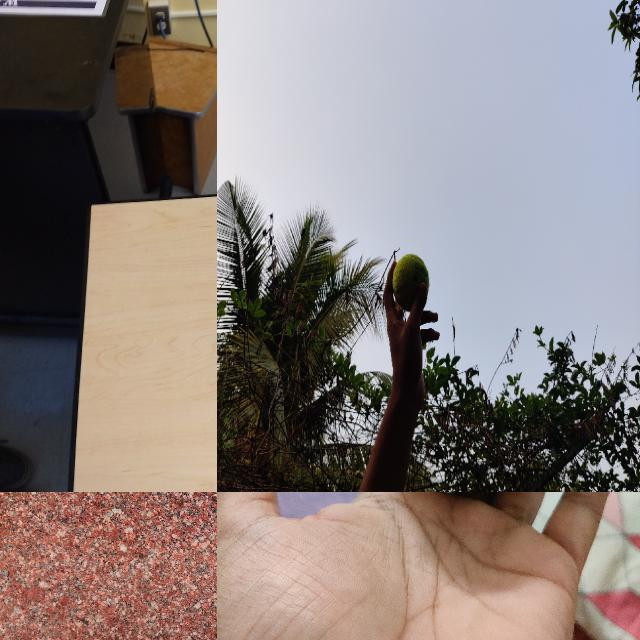tennis-ball: (392, 252, 429, 312)
